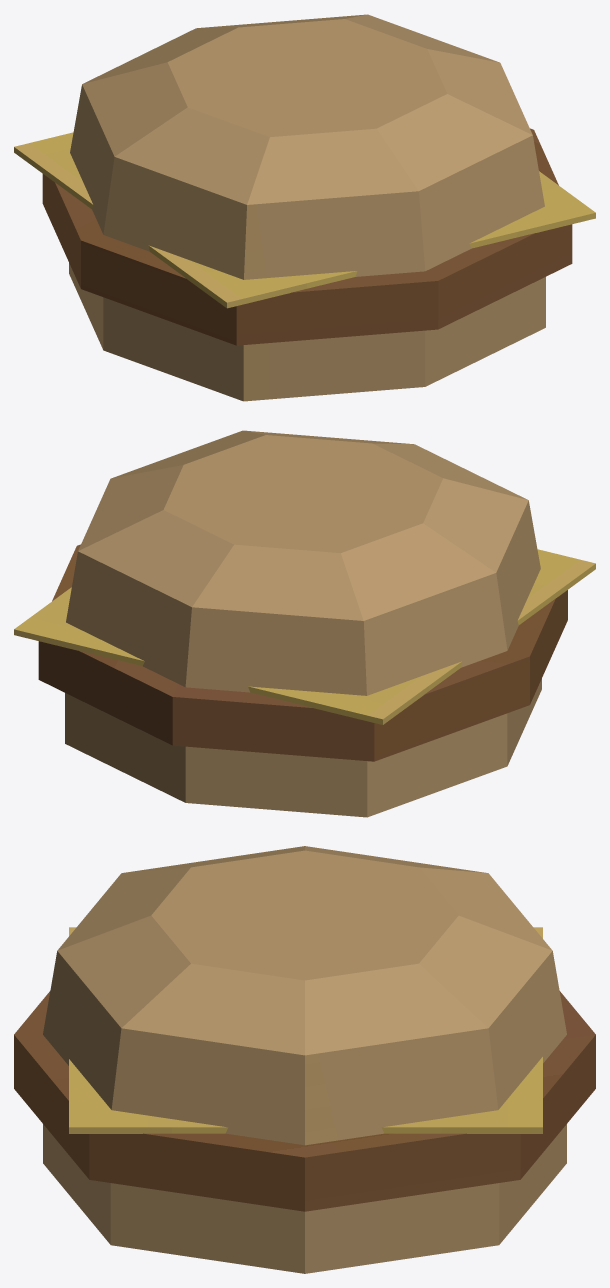
Rendered from CHAHIN_BURGER.gltf.
3 renders of one model, top to bottom at view 1: azimuth 30°, elevation 25°; view 2: azimuth 150°, elevation 25°; view 3: azimuth 270°, elevation 25°, orthographic. The views are drawn at different scales.
Parts seen in each view (by area): view 1: node-0; view 2: node-0; view 3: node-0.
Part boxes in pixels (x1,y1,x2,y2): node-0: (14, 14, 595, 401); node-0: (14, 430, 595, 817); node-0: (14, 846, 595, 1273).
Bounding box in the file's own units: 0.8425 × 0.3956 × 0.8425.
Materials: 1 (1 with a texture image).
